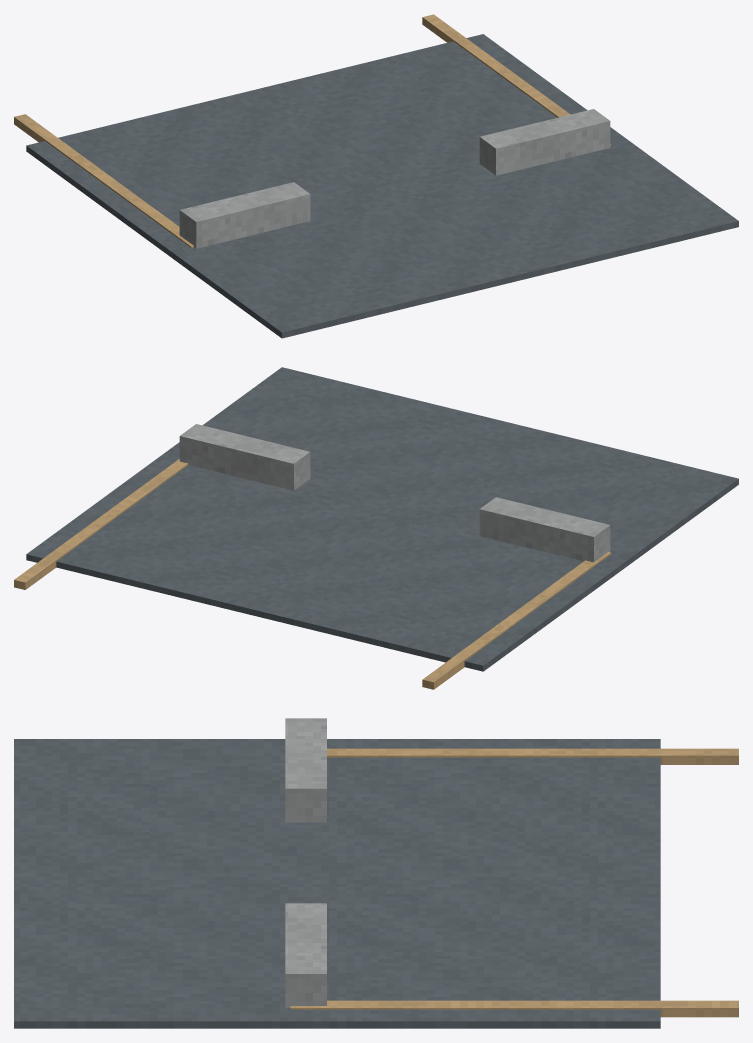
File: level_blockout_motel_parking_stops.glb
The picture shows the model from 3 angles, top to bottom: view 1: azimuth 30°, elevation 25°; view 2: azimuth 150°, elevation 25°; view 3: azimuth 270°, elevation 25°; orthographic projection. The views are drawn at different scales.
Visible parts, largest first — view 1: level_blockout_motel_parking_stops; view 2: level_blockout_motel_parking_stops; view 3: level_blockout_motel_parking_stops.
Part boxes in pixels (x1,y1,x2,y2): level_blockout_motel_parking_stops: (14,14,738,338); level_blockout_motel_parking_stops: (14,367,738,689); level_blockout_motel_parking_stops: (14,718,738,1028).
Size of the model in its own units: 3.2 by 0.22 by 3.47.
3 materials, 3 textured.
